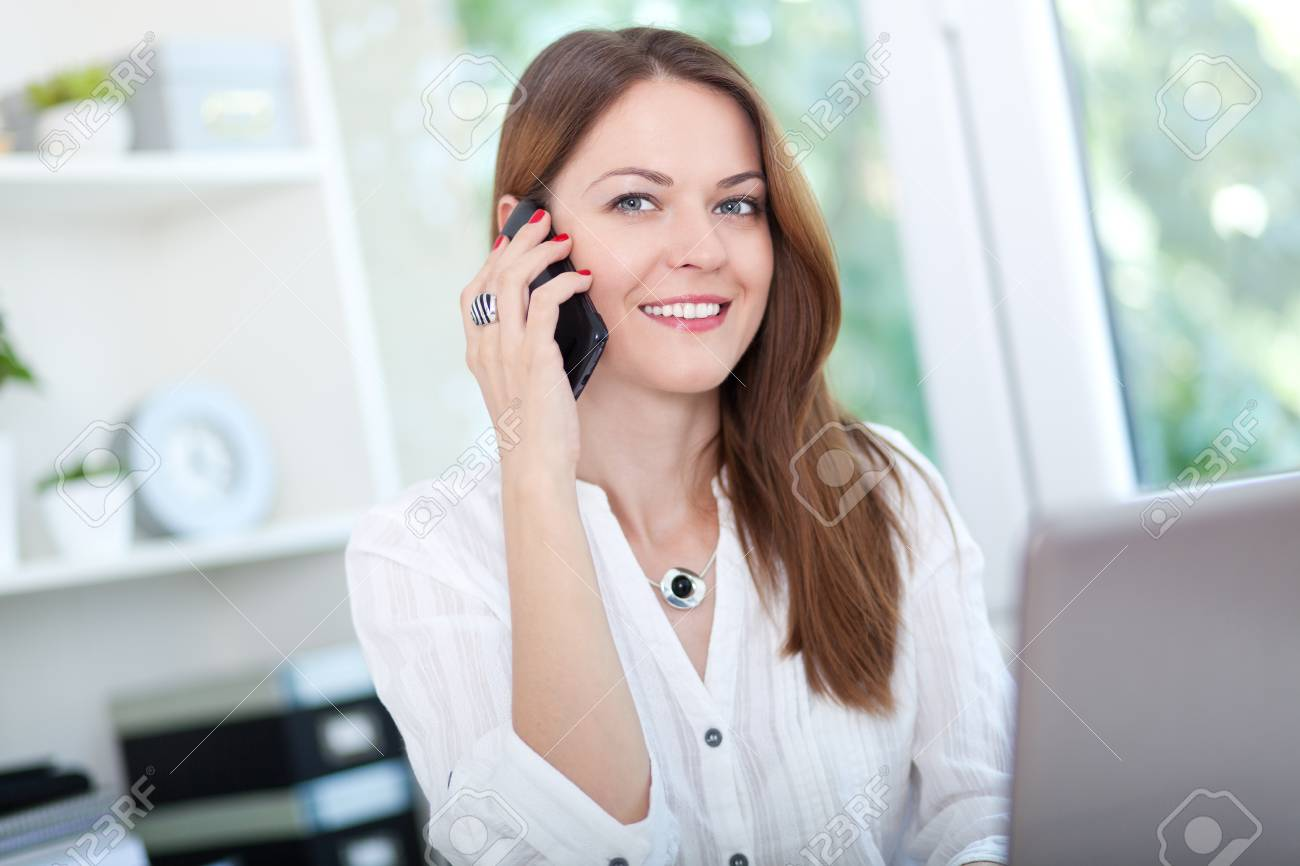phone: (457, 203, 623, 413)
talk: (438, 163, 775, 491)
